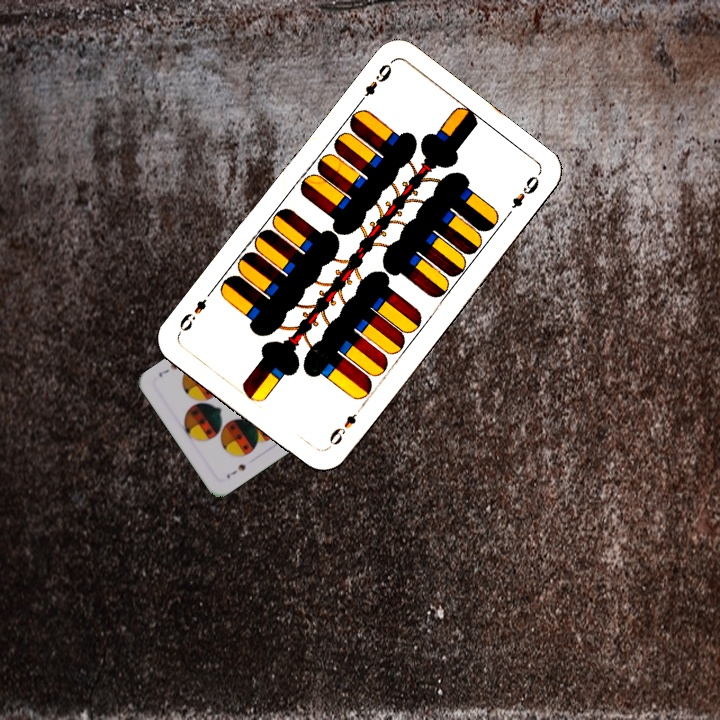E9: (353, 58, 395, 108), (323, 409, 359, 452)
S7: (222, 460, 248, 481)
